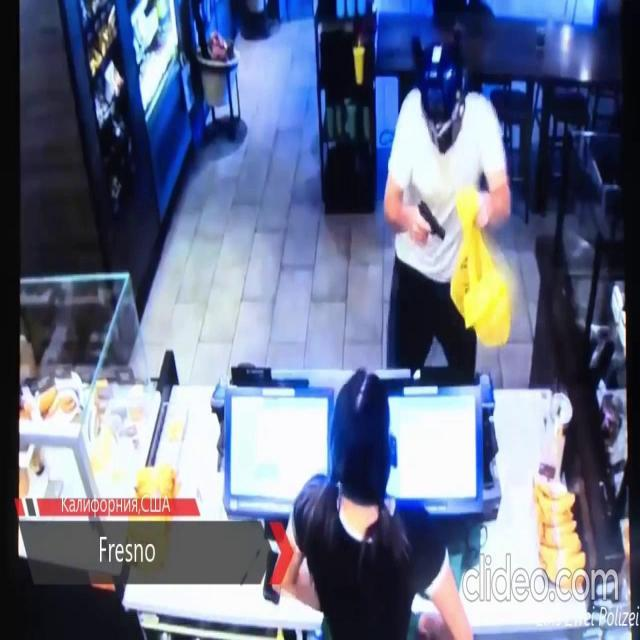pistol: (417, 195, 447, 242)
